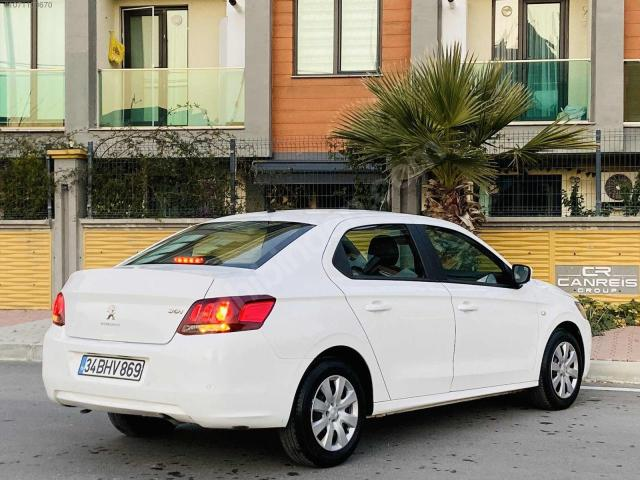plaka: (78, 355, 144, 381)
